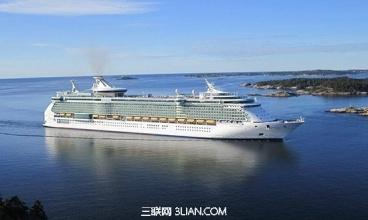youlun: (45, 73, 309, 143)
